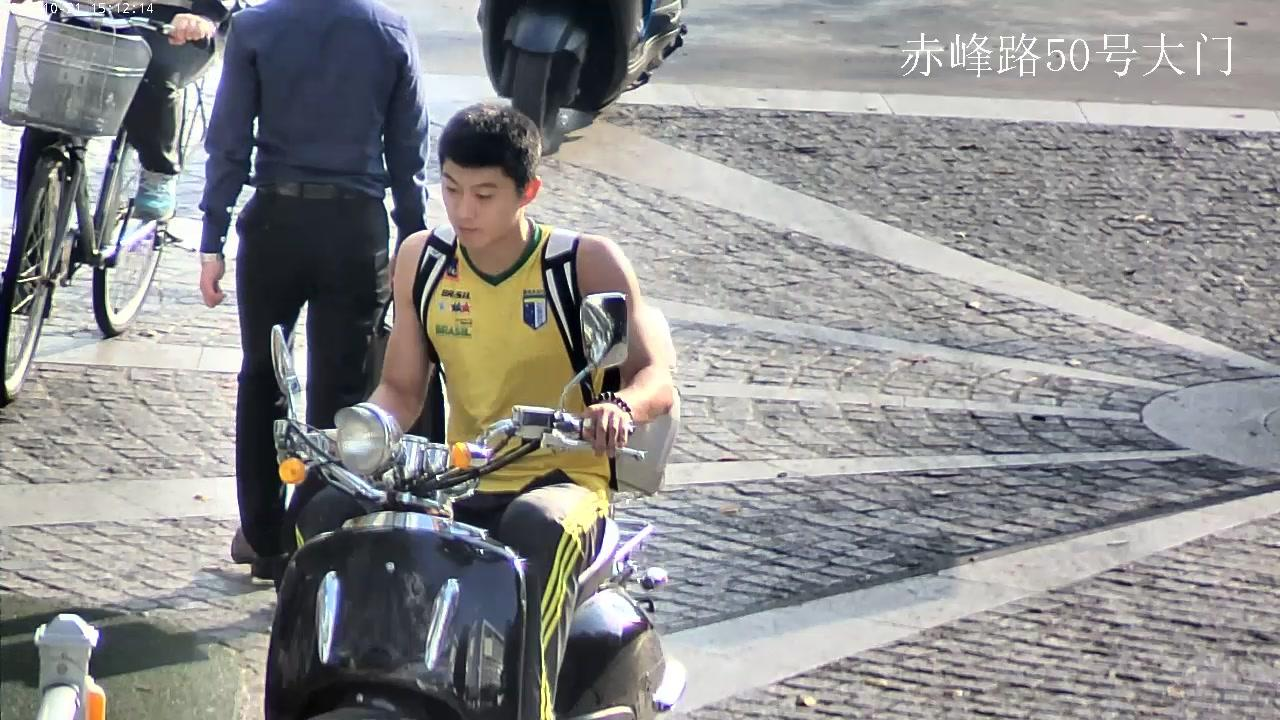face: (441, 159, 516, 246)
